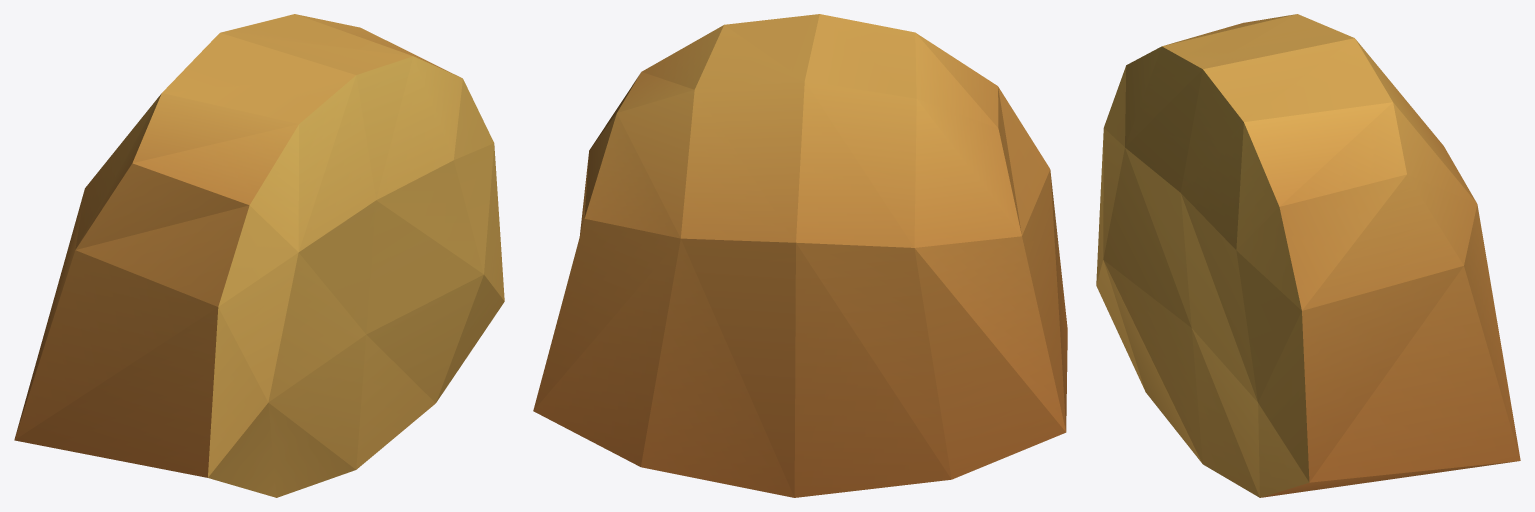
The model's file is food_ingredient_potato_gib_B_flat.gltf.
3 renders of one model, left to right at view 1: azimuth 30°, elevation 25°; view 2: azimuth 150°, elevation 25°; view 3: azimuth 270°, elevation 25°, orthographic. The views are drawn at different scales.
Parts seen in each view (by area): view 1: food_ingredient_potato_chopped; view 2: food_ingredient_potato_chopped; view 3: food_ingredient_potato_chopped.
Part boxes in pixels (left/top/right/bottom): food_ingredient_potato_chopped: left=14, top=14, right=504, bottom=497; food_ingredient_potato_chopped: left=533, top=14, right=1067, bottom=497; food_ingredient_potato_chopped: left=1096, top=14, right=1520, bottom=497.
Bounding box in the file's own units: 0.3534 × 0.268 × 0.2599.
Materials: 1 (1 with a texture image).
